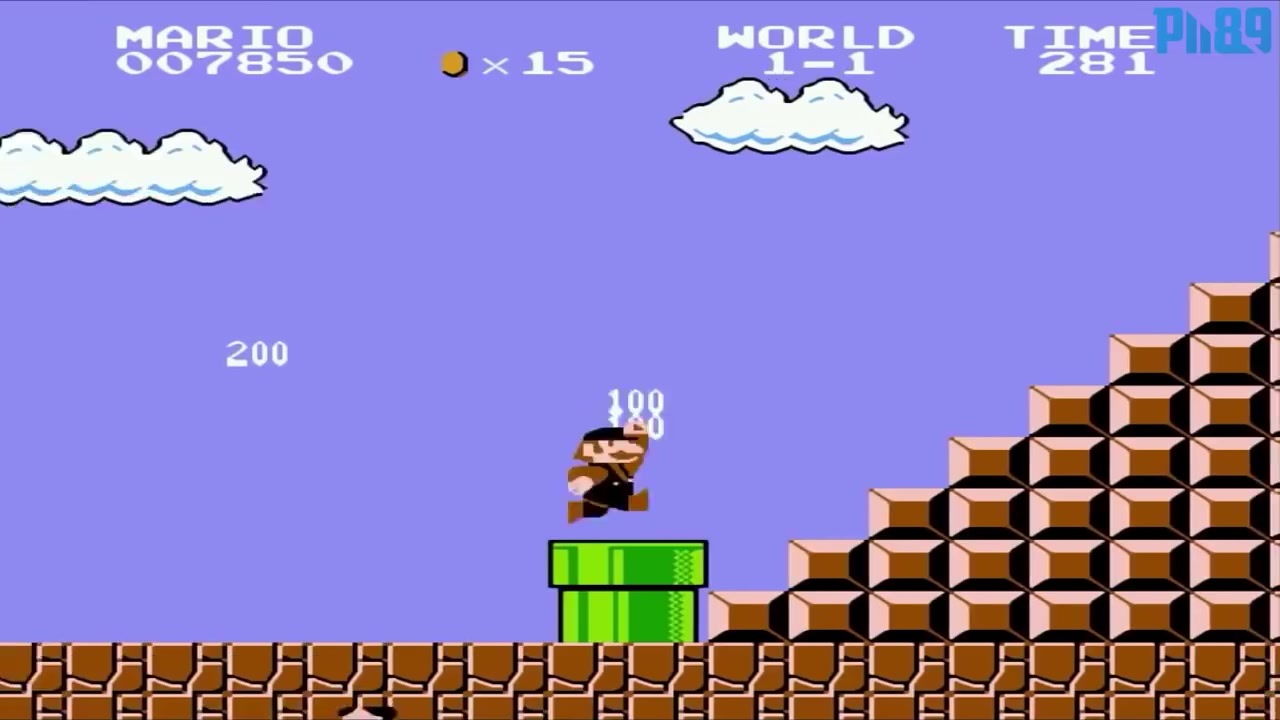mario: (543, 405, 680, 527)
